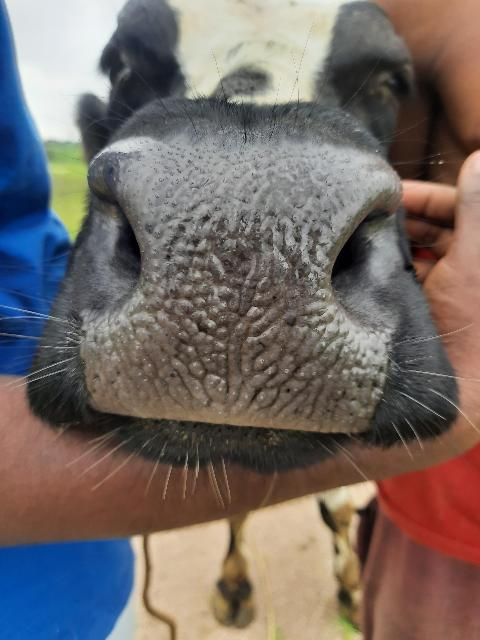Muzzle: (87, 142, 379, 436)
